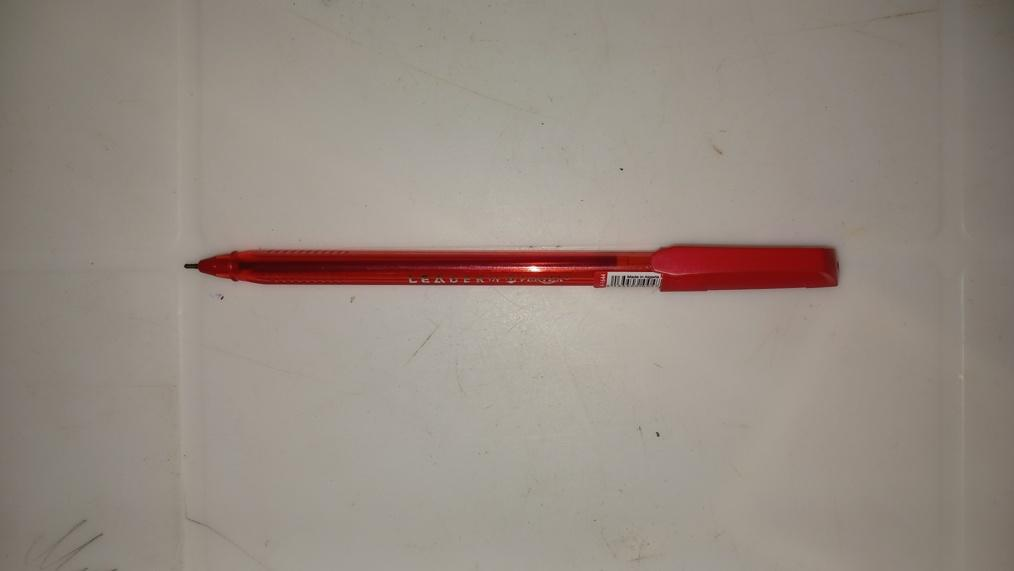pen: (181, 242, 840, 291)
